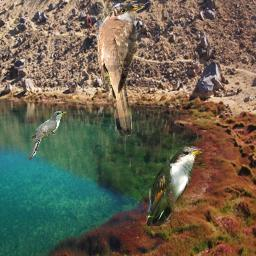Cuckoo: (97, 3, 145, 136), (146, 146, 204, 226), (28, 111, 66, 160)
